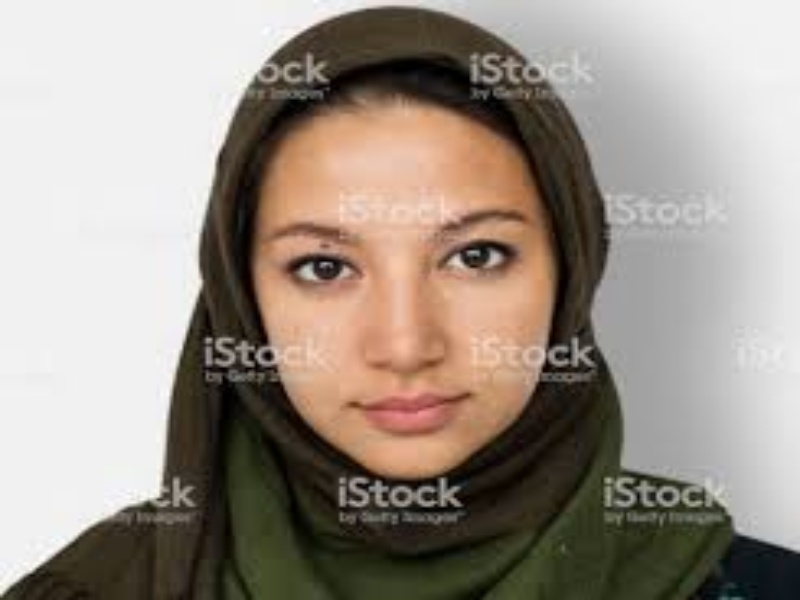face: (266, 213, 540, 442)
